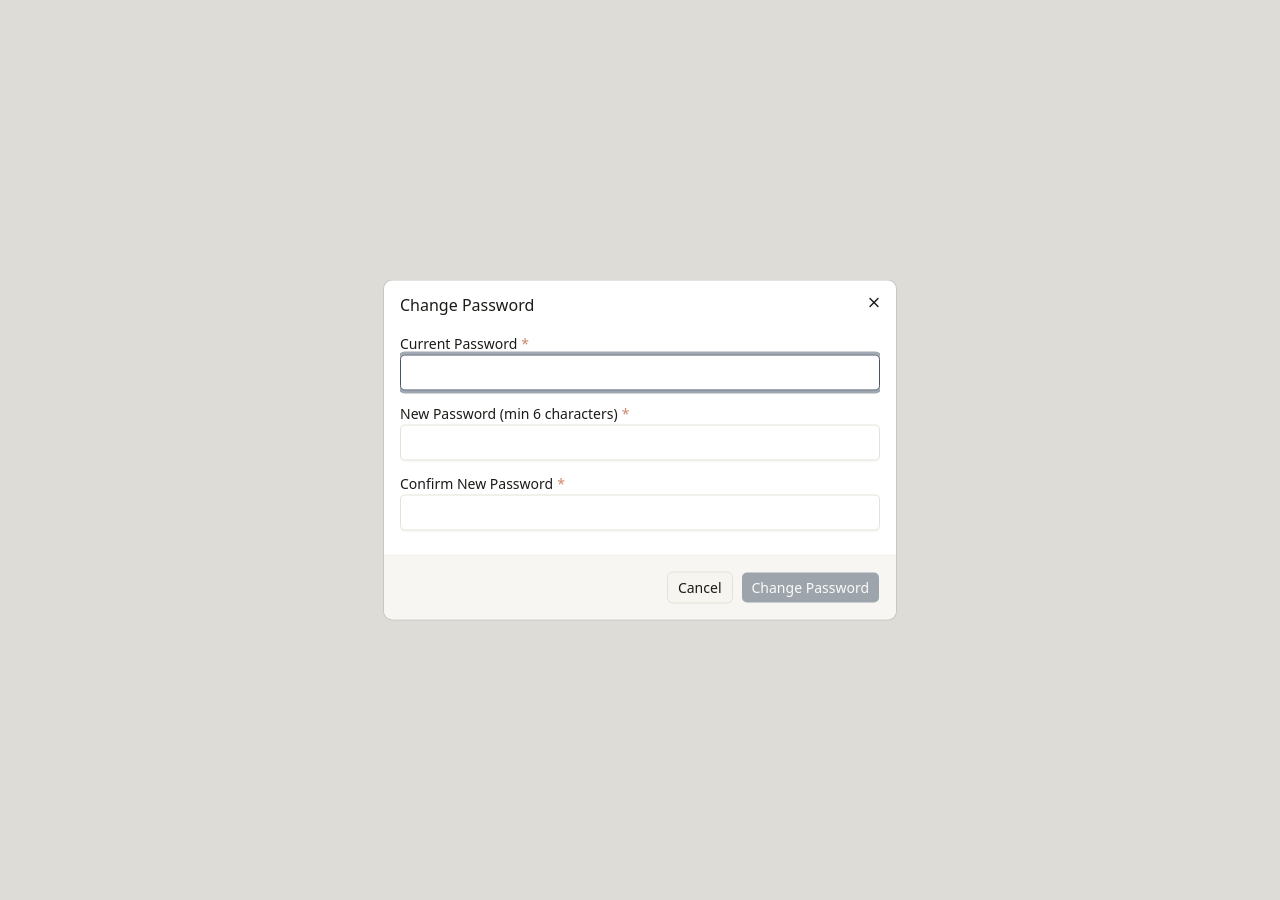
Test: ChangePasswordDialog › keeps submit disabled until all three fields are filled
The width and height of the screenshot is (1280, 900).
Expected: the button "Change Password" is disabled, [740,572,880,604]
Type "old" into the password field labelled "Current Password*".
click(640, 372); type("old")  # box [400,354,880,390]
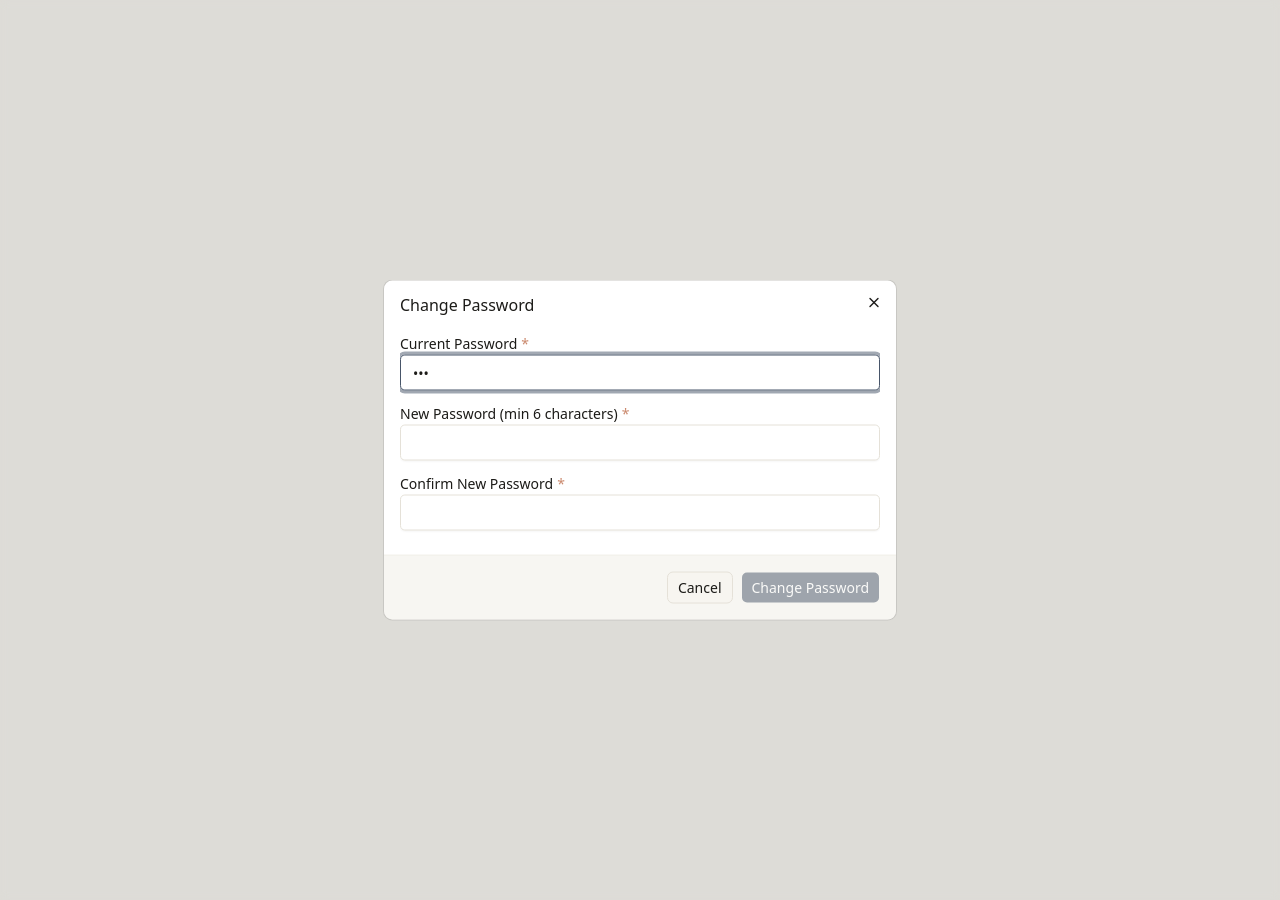
Type "newpass" into the password field labelled "New Password (min 6 characters)*".
click(640, 442); type("newpass")  # box [400,424,880,460]
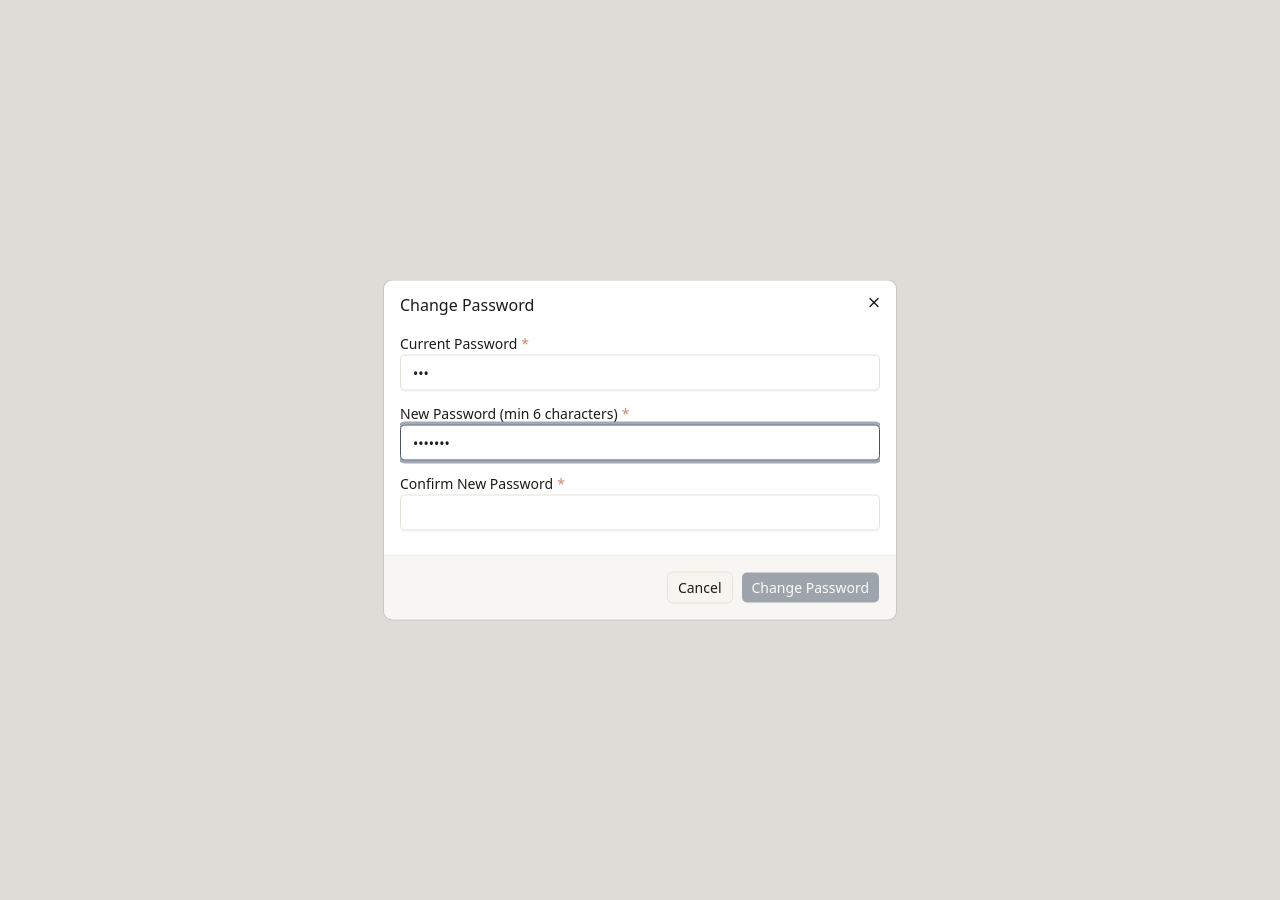
Type "newpass" into the password field labelled "Confirm New Password*".
click(640, 512); type("newpass")  # box [400,494,880,530]
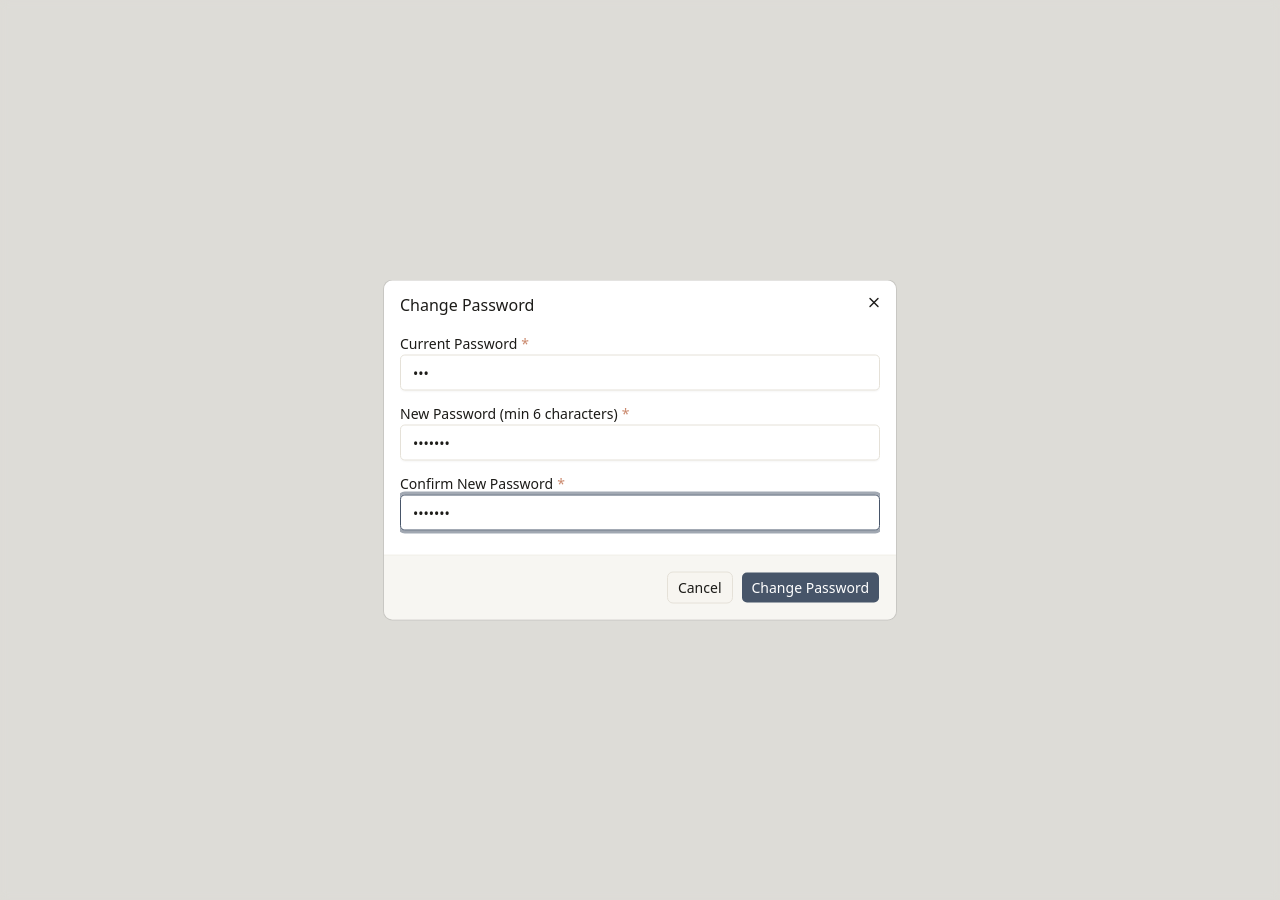
Expected: the button "Change Password" is enabled, [740,572,880,604]
